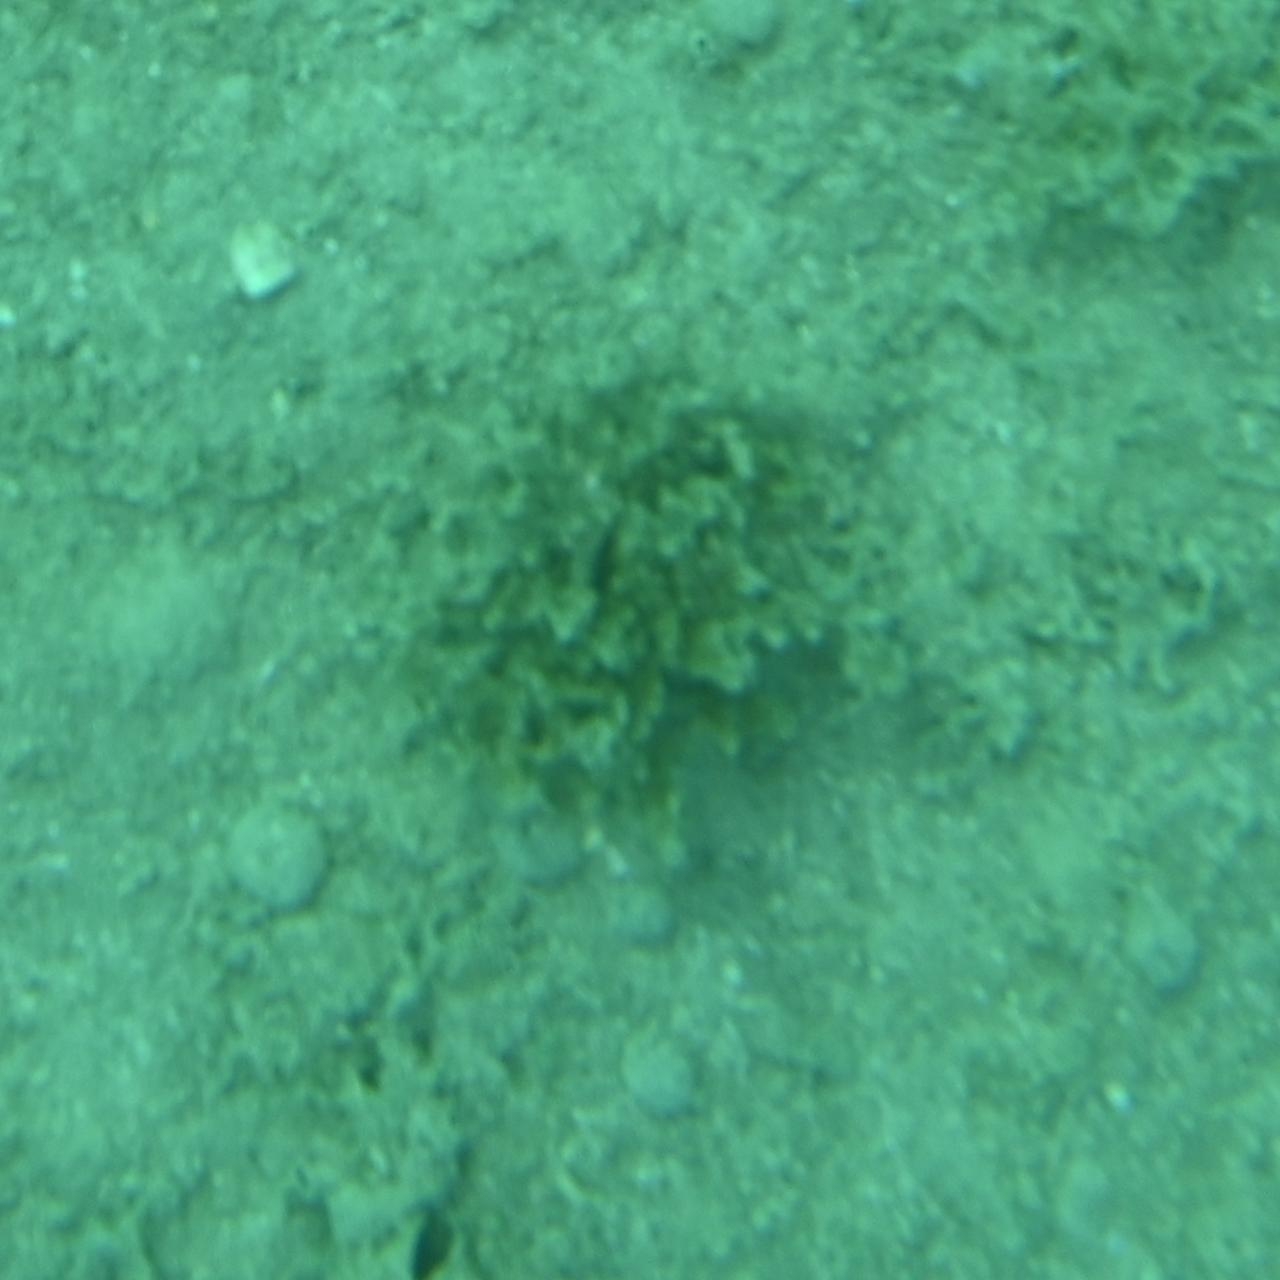Phaeophyceae -cfr Cystoseira-: (408, 380, 872, 900)
